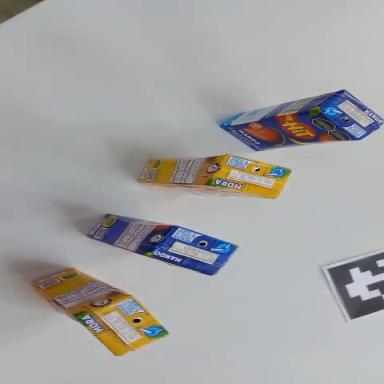HIT-MANGO: (87, 200, 238, 282), (218, 85, 384, 154)
HIT-MORA: (29, 242, 172, 373), (137, 150, 291, 199)
cara_F: (220, 105, 357, 156), (139, 183, 275, 199)
